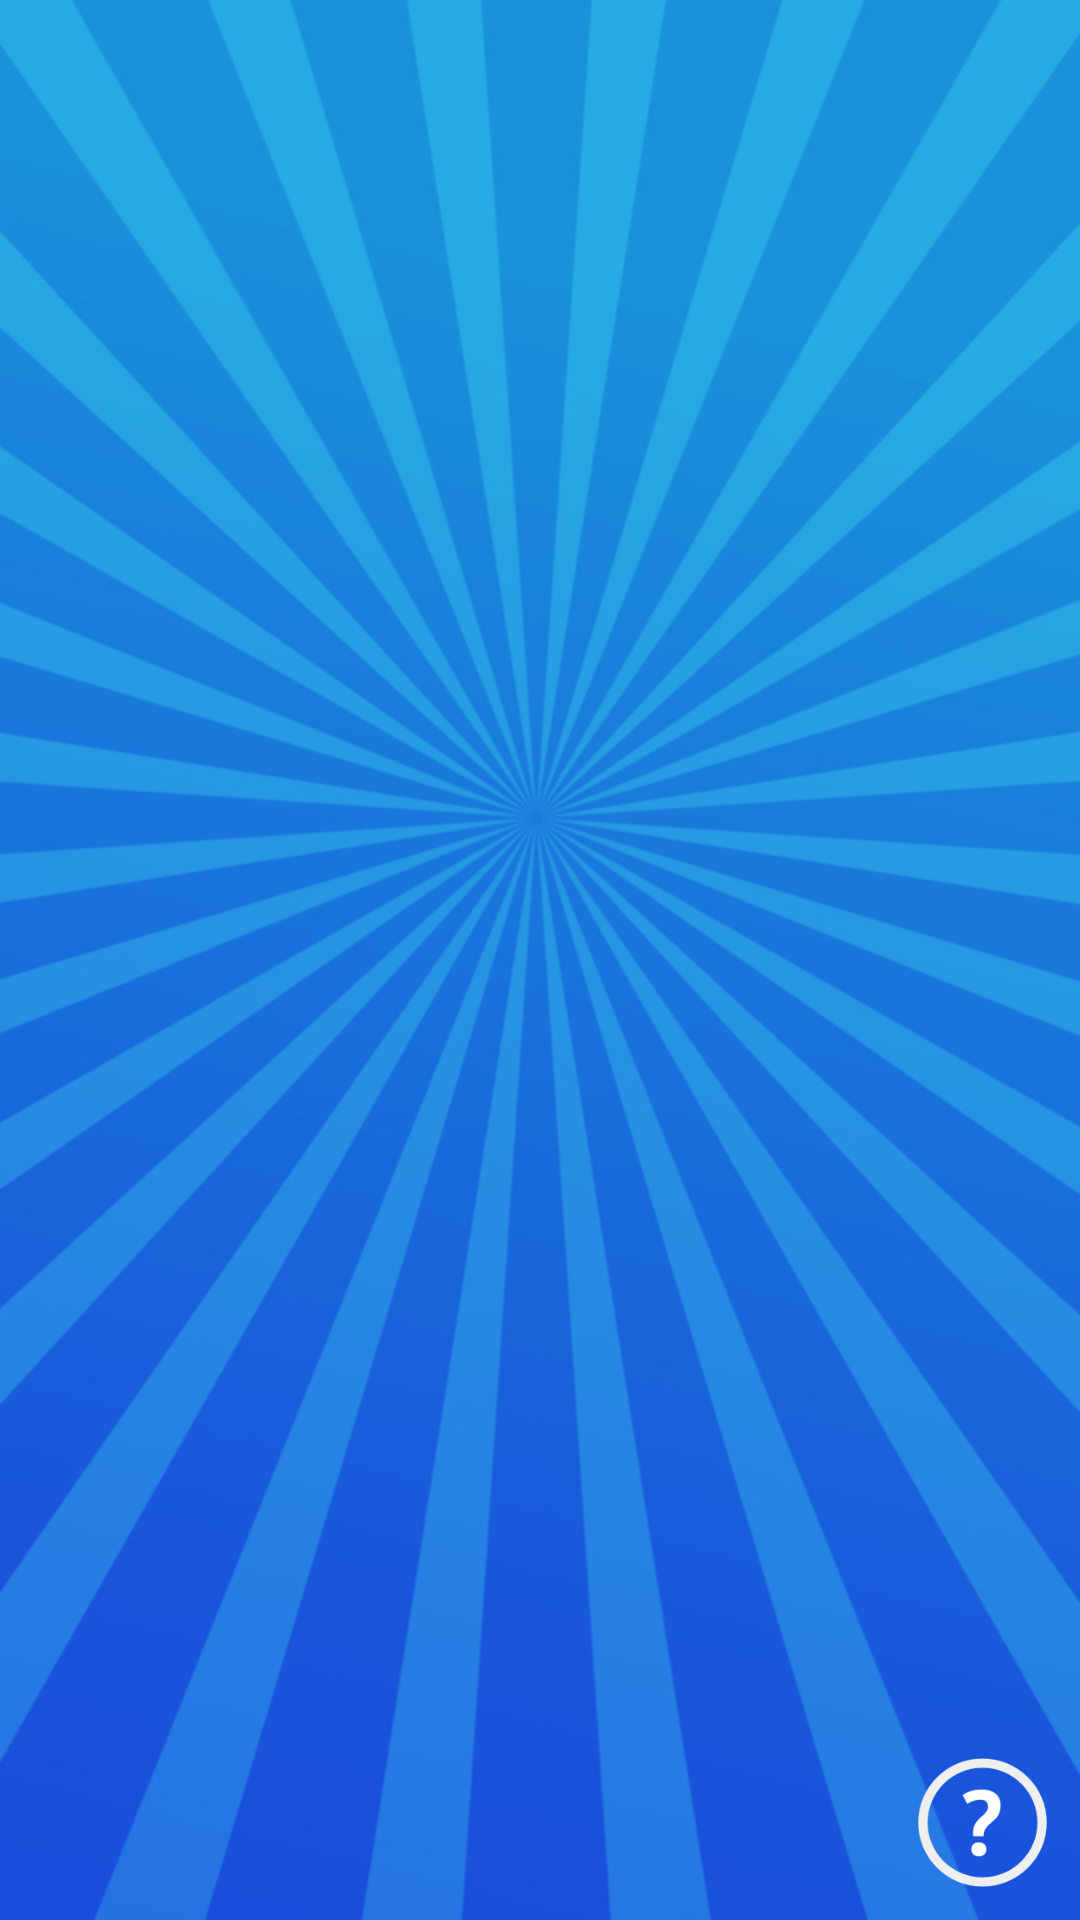

Icons on this 1080 × 1920 Android screen, each with its box as (x1, y1, x2, y2):
question: (918, 1758, 1047, 1887)
